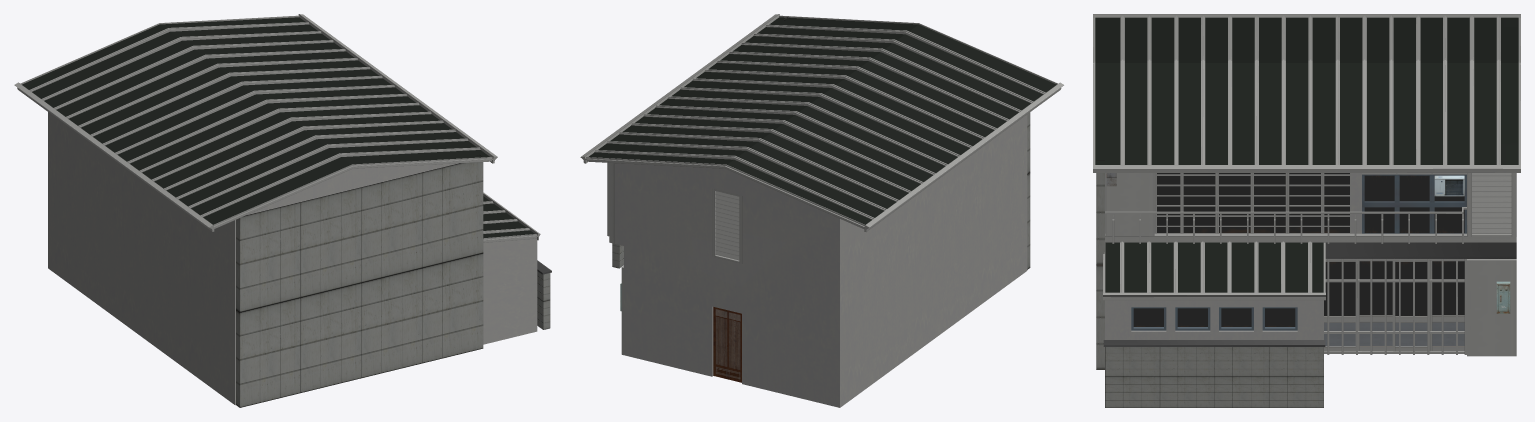
Rendered from residence.glb.
3 renders of one model, left to right at view 1: azimuth 30°, elevation 25°; view 2: azimuth 150°, elevation 25°; view 3: azimuth 270°, elevation 25°, orthographic. The views are drawn at different scales.
Visible parts, largest first — view 1: JapaneseResidentialHome_03; view 2: JapaneseResidentialHome_03; view 3: JapaneseResidentialHome_03.
Boxes of the visible parts, <box> form: JapaneseResidentialHome_03: <box>14,14,551,407</box>; JapaneseResidentialHome_03: <box>580,14,1063,407</box>; JapaneseResidentialHome_03: <box>1093,14,1520,407</box>.
Bounding box in the file's own units: 11.8 × 7.08 × 11.45.
1 material, 1 textured.
